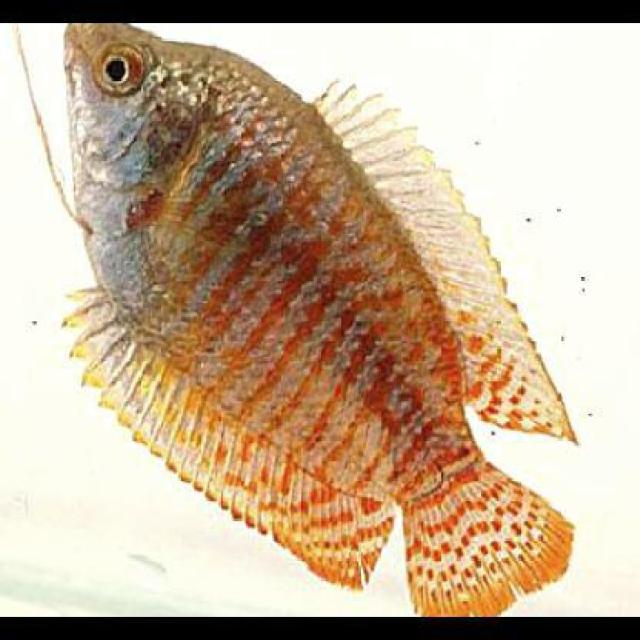Gourami: (55, 22, 579, 616)
